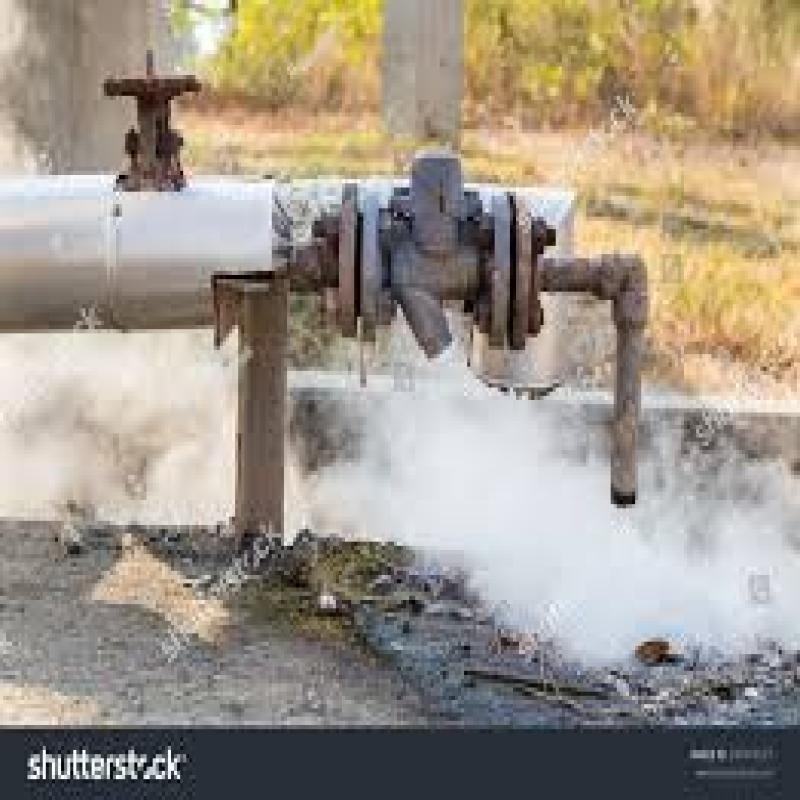Fracture: (388, 232, 728, 608), (81, 273, 255, 469)
